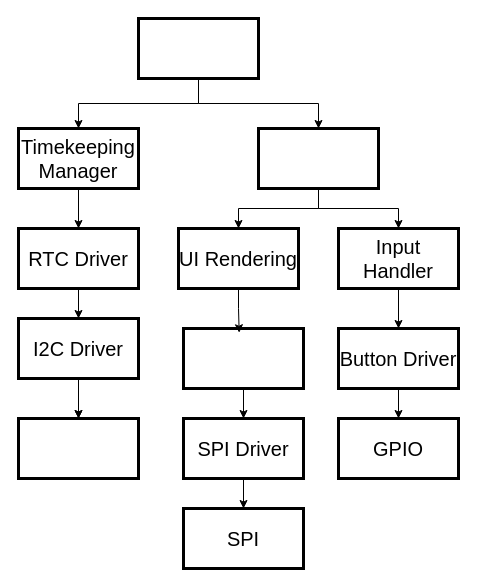
Some shapes in this 477 by 587 pixel diagram are drawn without their labels. The centre of each missing label's shape, as x and y in pixels:
Display Driver: the point at 243,358
I2C: the point at 78,448
Main: the point at 198,48
UI State Machine: the point at 318,158
